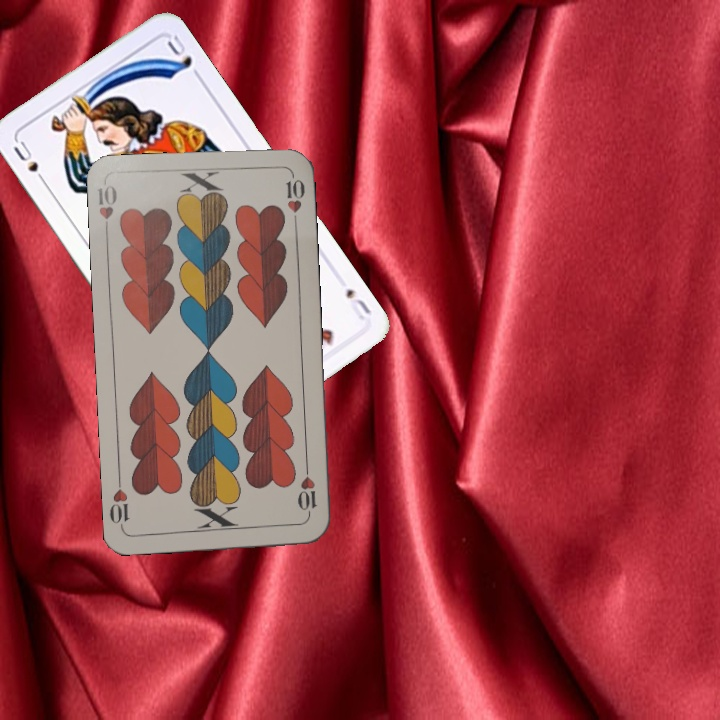H10: (94, 181, 120, 239), (294, 461, 319, 520)
SU: (9, 136, 51, 189), (341, 284, 373, 323)
